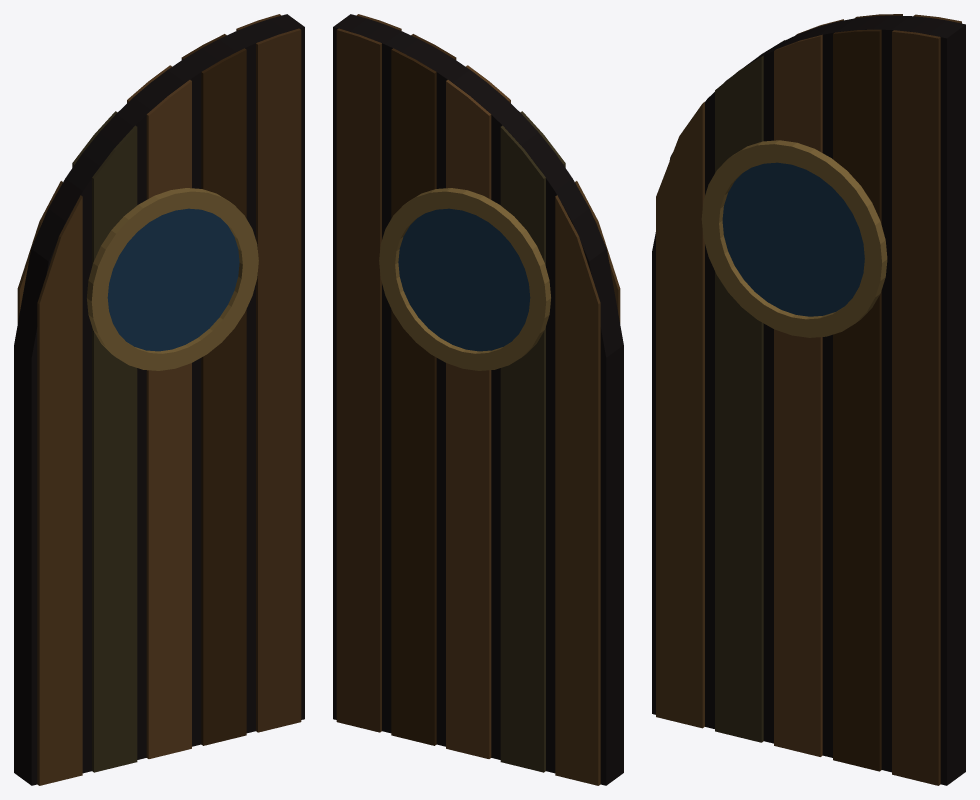
File: door_arch_left_x.glb
3 views of the same model, side by side, from view 1: azimuth 30°, elevation 25°; view 2: azimuth 150°, elevation 25°; view 3: azimuth 330°, elevation 25° (orthographic). The views are drawn at different scales.
Parts seen in each view (by area): view 1: body_0_14, boards_4_1, boards_5_1, boards_2_1, boards_1_6, boards_6_1, porthole_glass_3_12, porthole_ring_5_6; view 2: body_0_14, boards_4_1, boards_5_1, boards_2_1, boards_1_6, boards_6_1, porthole_glass_3_12, porthole_ring_5_6; view 3: body_0_14, boards_4_1, boards_2_1, boards_5_1, boards_6_1, boards_1_6, porthole_glass_3_12, porthole_ring_5_6.
Boxes of the visible parts, x1,y1,x2,y2 form: body_0_14: (14, 14, 304, 785); boards_4_1: (236, 14, 301, 732); boards_5_1: (17, 181, 82, 785); boards_2_1: (181, 34, 246, 745); boards_1_6: (72, 111, 137, 772); boards_6_1: (127, 65, 191, 758); porthole_glass_3_12: (107, 208, 239, 351); porthole_ring_5_6: (87, 188, 258, 370); body_0_14: (333, 14, 623, 785); boards_4_1: (336, 14, 401, 732); boards_5_1: (555, 181, 620, 785); boards_2_1: (391, 34, 456, 745); boards_1_6: (500, 111, 565, 772); boards_6_1: (446, 65, 510, 758); porthole_glass_3_12: (398, 208, 530, 351); porthole_ring_5_6: (379, 188, 550, 370); body_0_14: (652, 15, 965, 785); boards_4_1: (892, 14, 961, 785); boards_2_1: (833, 14, 902, 771); boards_5_1: (656, 102, 704, 728); boards_6_1: (774, 19, 843, 756); boards_1_6: (715, 40, 784, 742); porthole_glass_3_12: (722, 162, 864, 316); porthole_ring_5_6: (701, 140, 887, 337).
Bounding box in the file's own units: 0.9375 × 2.27 × 0.188.
